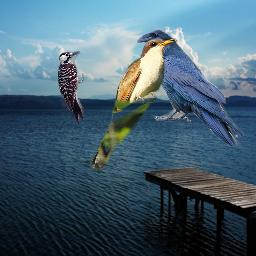Crow: (135, 28, 244, 146)
Cuckoo: (88, 35, 178, 172)
Woodpecker: (58, 51, 84, 123)
